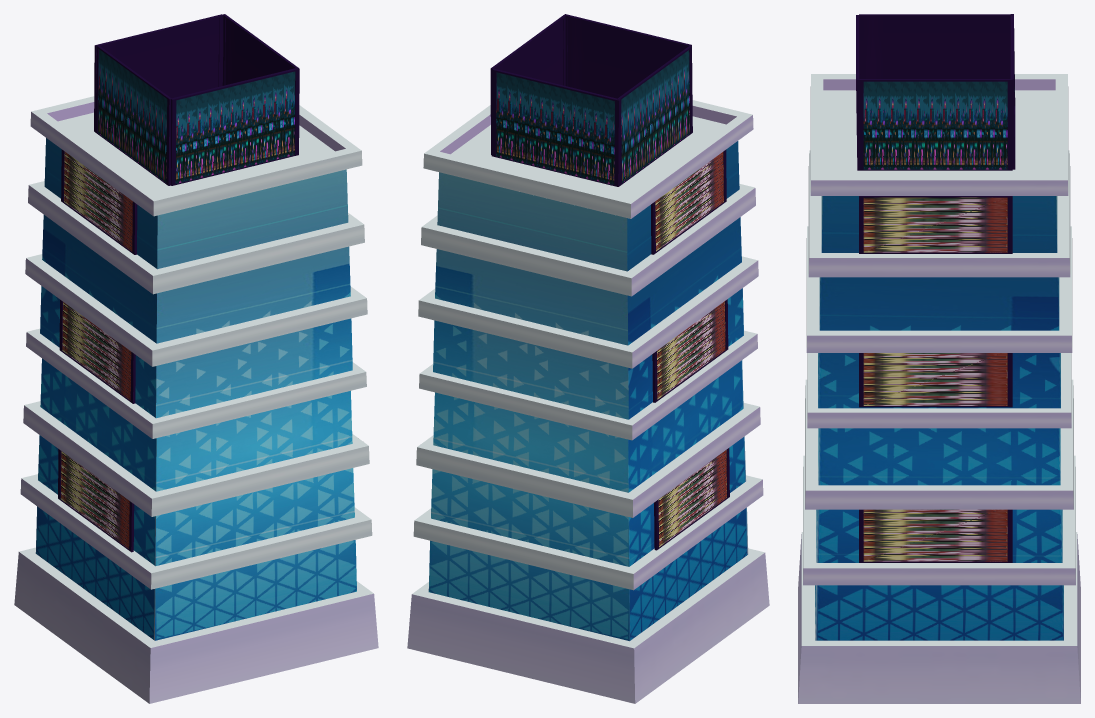
Rendered from FUT0210011.fbx.
3 views of the same model, side by side, from view 1: azimuth 30°, elevation 25°; view 2: azimuth 150°, elevation 25°; view 3: azimuth 270°, elevation 25° (orthographic). The views are drawn at different scales.
Visible parts, largest first — view 1: smFUT0210011; view 2: smFUT0210011; view 3: smFUT0210011.
Part boxes in pixels (x1,y1,x2,y2): smFUT0210011: (14, 14, 378, 703); smFUT0210011: (407, 14, 769, 703); smFUT0210011: (798, 14, 1080, 703).
Bounding box in the file's own units: 995 × 2372 × 1017.
4 materials, 4 textured.
